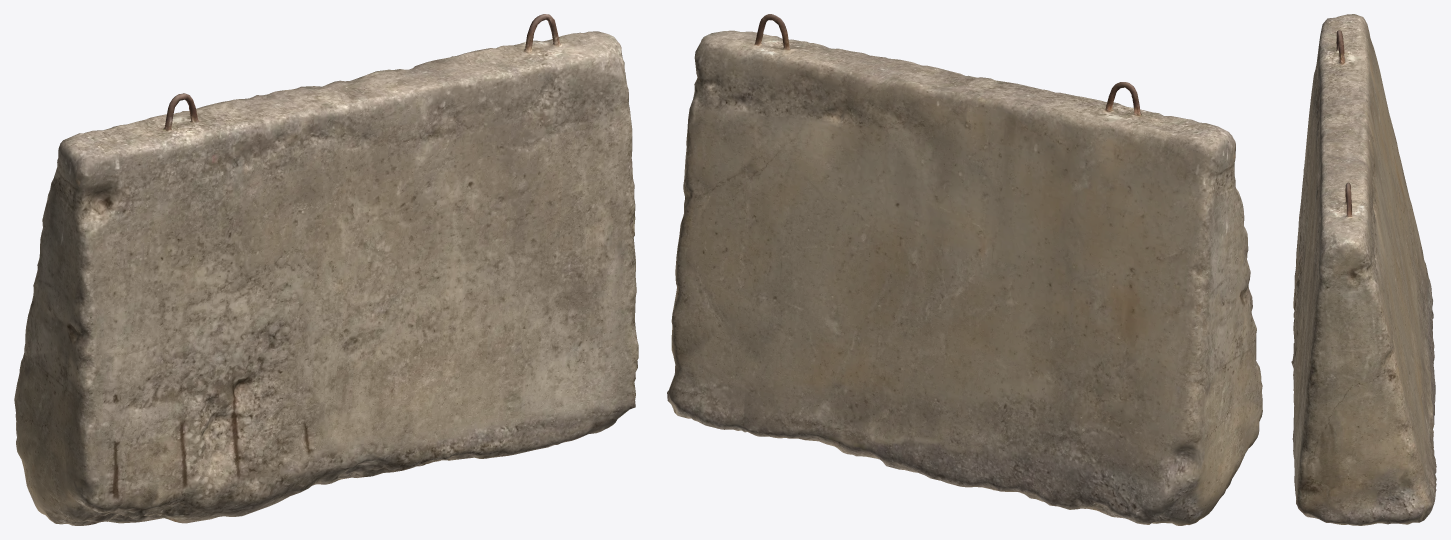
Rendered from concrete_road_barrier_02.glb.
3 views of the same model, side by side, from view 1: azimuth 30°, elevation 25°; view 2: azimuth 150°, elevation 25°; view 3: azimuth 270°, elevation 25° (orthographic). The views are drawn at different scales.
Parts seen in each view (by area): view 1: concrete_road_barrier_02; view 2: concrete_road_barrier_02; view 3: concrete_road_barrier_02.
Part boxes in pixels (box(x1,y1,x2,y2)): concrete_road_barrier_02: box(14, 14, 638, 525); concrete_road_barrier_02: box(667, 14, 1262, 525); concrete_road_barrier_02: box(1291, 14, 1436, 525).
Size of the model in its own units: 1.57 by 1.11 by 0.4422.
Materials: 1 (1 with a texture image).
